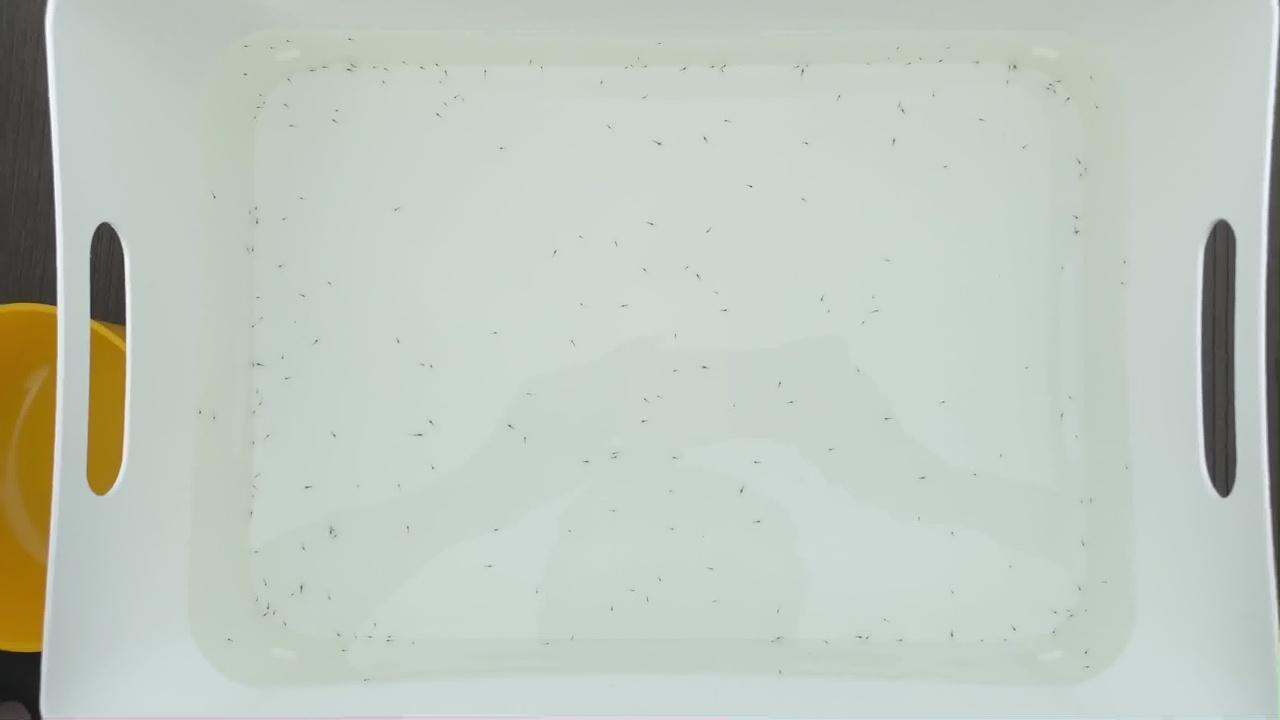shrimp: (1117, 279, 1130, 287), (1045, 74, 1058, 82), (1043, 80, 1056, 88), (973, 113, 986, 121), (1004, 63, 1017, 71), (941, 41, 954, 49), (724, 113, 737, 121), (648, 140, 661, 148), (603, 124, 616, 132), (711, 63, 724, 71), (640, 63, 653, 71), (628, 52, 641, 60), (536, 68, 549, 76), (398, 58, 411, 66), (382, 68, 395, 76), (363, 58, 376, 66), (343, 68, 356, 76), (306, 69, 319, 77), (242, 213, 255, 221), (703, 229, 716, 237), (518, 439, 531, 447), (254, 296, 267, 304), (254, 357, 267, 365), (247, 439, 260, 447), (422, 418, 435, 426), (320, 523, 333, 531), (261, 583, 274, 591), (363, 628, 376, 636), (531, 589, 544, 597), (654, 578, 667, 586), (666, 495, 679, 503), (708, 595, 721, 603), (735, 489, 748, 497), (768, 378, 781, 386), (872, 306, 885, 314), (1069, 390, 1082, 398), (826, 445, 839, 453), (1075, 501, 1088, 509), (1078, 606, 1091, 614), (1080, 645, 1093, 653), (1078, 74, 1090, 82), (1011, 63, 1023, 71), (972, 63, 984, 71), (928, 91, 940, 99), (346, 63, 358, 71), (286, 74, 298, 82), (208, 196, 220, 204), (297, 295, 309, 303), (253, 473, 265, 481), (369, 617, 381, 625), (490, 523, 502, 531), (640, 594, 652, 602), (851, 362, 863, 370), (967, 467, 979, 475), (1100, 578, 1112, 586), (862, 633, 874, 641), (773, 633, 785, 641), (1120, 258, 1133, 265), (1054, 266, 1067, 273), (1073, 227, 1086, 234), (1073, 170, 1086, 177), (1082, 165, 1095, 172), (1073, 155, 1086, 162), (1092, 104, 1105, 111), (1043, 90, 1056, 97), (1062, 96, 1075, 103), (1021, 149, 1034, 156), (1000, 82, 1013, 89), (936, 53, 949, 60), (914, 55, 927, 62), (904, 63, 917, 70), (892, 44, 905, 51), (881, 56, 894, 63), (864, 61, 877, 68), (897, 102, 910, 109), (902, 112, 915, 119), (881, 138, 894, 145), (798, 71, 811, 78), (800, 138, 813, 145), (800, 195, 813, 202), (740, 181, 753, 188), (701, 136, 714, 143), (635, 92, 648, 99), (680, 64, 693, 71), (656, 48, 669, 55), (627, 63, 640, 70), (617, 66, 630, 73), (591, 81, 604, 88), (527, 66, 540, 73), (444, 97, 457, 104), (441, 98, 454, 105), (444, 71, 457, 78), (430, 61, 443, 68), (414, 66, 427, 73), (377, 78, 390, 85), (343, 37, 356, 44), (321, 67, 334, 74), (282, 38, 295, 45), (240, 41, 253, 48), (253, 87, 266, 94), (256, 100, 269, 107), (250, 103, 263, 110), (249, 109, 262, 116), (287, 118, 300, 125), (278, 97, 291, 104), (331, 102, 344, 109), (253, 199, 266, 206), (248, 243, 261, 250), (241, 247, 254, 254), (296, 192, 309, 199), (493, 148, 506, 155), (547, 250, 560, 257), (581, 234, 594, 241), (610, 241, 623, 248), (643, 262, 656, 269), (677, 265, 690, 272), (691, 271, 704, 278), (721, 303, 734, 310), (707, 290, 720, 297), (671, 330, 684, 337), (672, 370, 685, 377), (700, 360, 713, 367), (621, 301, 634, 308), (577, 308, 590, 315), (567, 341, 580, 348), (522, 394, 535, 401), (486, 327, 499, 334), (504, 422, 517, 429), (425, 363, 438, 370), (412, 358, 425, 365), (312, 341, 325, 348), (326, 277, 339, 284), (256, 315, 269, 322), (247, 327, 260, 334), (247, 363, 260, 370), (279, 354, 292, 361), (283, 375, 296, 382), (251, 385, 264, 392), (247, 411, 260, 418), (192, 412, 205, 419), (250, 488, 263, 495), (243, 511, 256, 518), (302, 481, 315, 488), (328, 426, 341, 433), (413, 432, 426, 439), (427, 465, 440, 472), (387, 482, 400, 489), (404, 529, 417, 536), (330, 531, 343, 538), (295, 542, 308, 549), (278, 531, 291, 538), (251, 549, 264, 556), (250, 598, 263, 605), (260, 603, 273, 610), (260, 613, 273, 620), (270, 610, 283, 617), (222, 637, 235, 644), (277, 621, 290, 628), (289, 589, 302, 596), (297, 583, 310, 590), (325, 592, 338, 599), (332, 631, 345, 638), (341, 649, 354, 656), (361, 674, 374, 681), (386, 636, 399, 643), (481, 563, 494, 570), (542, 640, 555, 647), (604, 606, 617, 613), (580, 457, 593, 464), (611, 453, 624, 460), (638, 414, 651, 421), (640, 398, 653, 405), (672, 452, 685, 459), (703, 565, 716, 572), (751, 521, 764, 528), (748, 453, 761, 460), (784, 394, 797, 401), (818, 292, 831, 299), (858, 322, 871, 329), (862, 294, 875, 301), (878, 254, 891, 261), (943, 168, 956, 175), (1057, 412, 1070, 419), (938, 403, 951, 410), (878, 408, 891, 415), (880, 414, 893, 421), (917, 474, 930, 481), (913, 514, 926, 521), (947, 529, 960, 536), (997, 452, 1010, 459), (1121, 465, 1134, 472), (1074, 589, 1087, 596), (1065, 615, 1078, 622), (1064, 608, 1077, 615), (1047, 626, 1060, 633), (1051, 608, 1064, 615), (973, 635, 986, 642), (944, 632, 957, 639), (895, 635, 908, 642), (772, 670, 785, 677), (763, 639, 776, 646), (770, 610, 783, 617), (1004, 569, 1017, 576), (878, 618, 891, 625), (1020, 366, 1033, 373), (824, 309, 837, 316), (1072, 214, 1084, 221), (834, 92, 846, 99), (790, 64, 802, 71), (718, 62, 730, 69), (479, 71, 491, 78), (457, 96, 469, 103), (435, 112, 447, 119), (264, 49, 276, 56), (241, 72, 253, 79), (330, 123, 342, 130), (252, 222, 264, 229), (274, 263, 286, 270), (274, 216, 286, 223), (396, 206, 408, 213), (645, 223, 657, 230), (391, 338, 403, 345), (258, 405, 270, 412), (208, 414, 220, 421), (264, 431, 276, 438), (563, 633, 575, 640), (623, 589, 635, 596), (662, 525, 674, 532), (1083, 496, 1095, 503), (1077, 538, 1089, 545), (1083, 662, 1095, 669), (1011, 625, 1023, 632), (1000, 636, 1012, 643), (850, 637, 862, 644), (817, 640, 829, 647), (945, 589, 957, 596)
